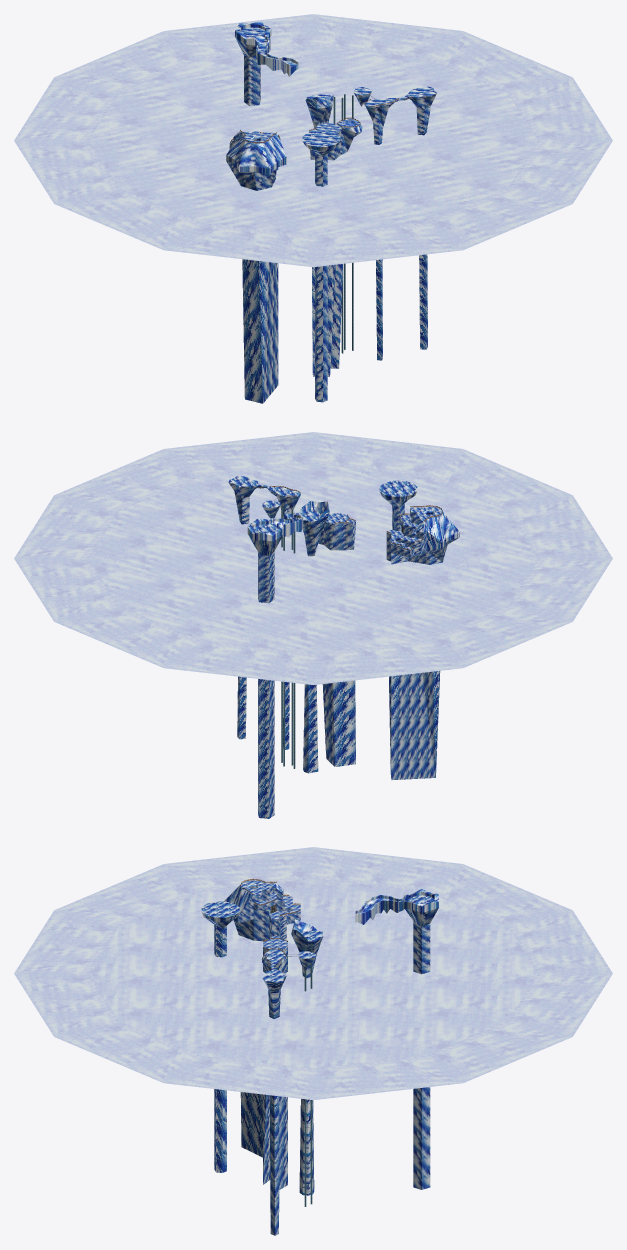
The model's file is ex_w_map_all.obj.
3 views of the same model, one above another, from view 1: azimuth 30°, elevation 25°; view 2: azimuth 150°, elevation 25°; view 3: azimuth 270°, elevation 25° (orthographic).
Parts seen in each view (by area): view 1: r0; view 2: r0; view 3: r0.
Part boxes in pixels (left/top/right/bottom): r0: left=14, top=14, right=612, bottom=403; r0: left=14, top=432, right=612, bottom=818; r0: left=14, top=847, right=612, bottom=1235.
Bounding box in the file's own units: 60 × 32.08 × 60.
